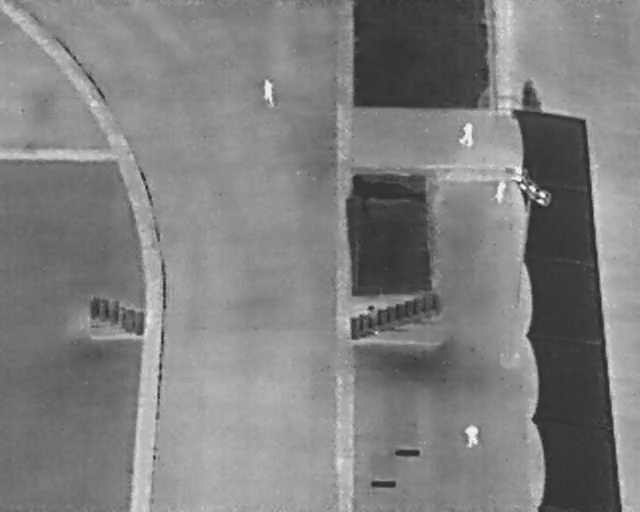Person: (258, 75, 277, 109), (491, 177, 509, 205), (463, 422, 481, 448), (457, 121, 474, 147)
